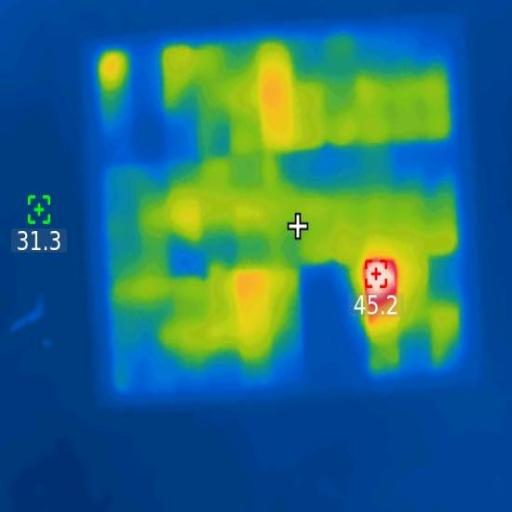hotspot: (364, 260, 396, 306)
